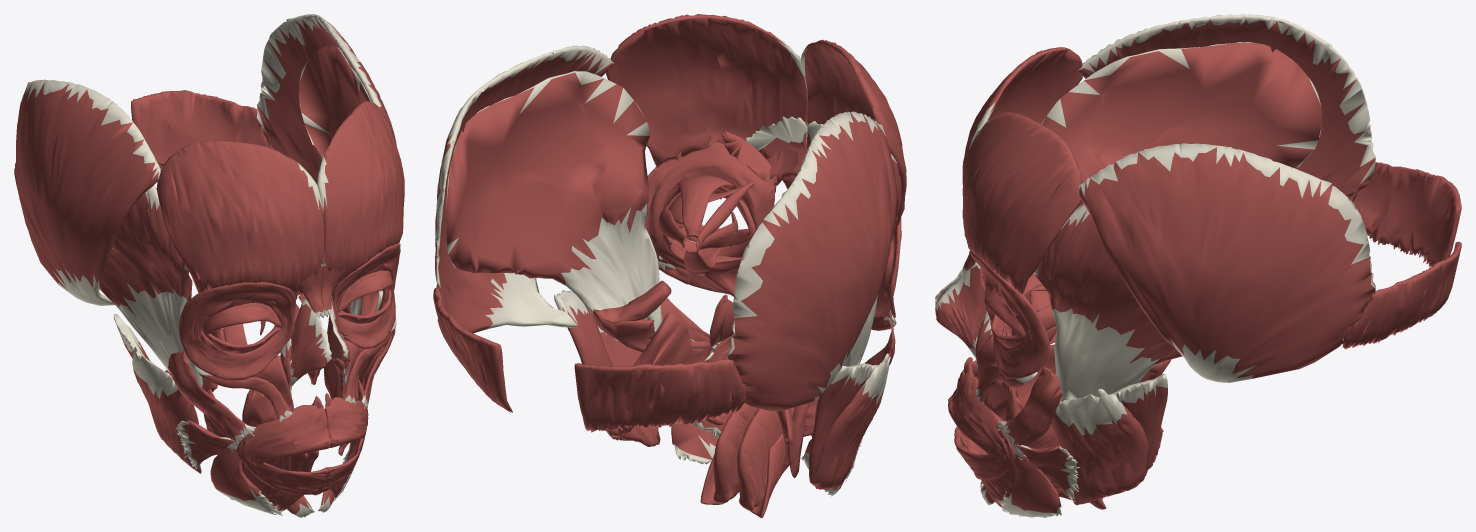
File: muscular-head-balanced.glb
The picture shows the model from 3 angles, left to right: view 1: azimuth 30°, elevation 25°; view 2: azimuth 150°, elevation 25°; view 3: azimuth 270°, elevation 25°; orthographic projection. The views are drawn at different scales.
Parts seen in each view (by area): view 1: za.temporoparietalis-muscle-r, za.frontalis-muscle-r, za.frontalis-muscle-l, za.temporalis-muscle-r, za.temporoparietalis-muscle-l, za.orbital-part-of-orbicularis-oculi-r, za.occipitalis-muscle-l, za.orbicularis-oris-muscle-r, za.temporalis-muscle-l, za.superficial-part-of-masseter-r, za.orbital-part-of-orbicularis-oculi-l, za.orbicularis-oris-muscle-l (+17 smaller); view 2: za.temporalis-muscle-l, za.temporoparietalis-muscle-r, za.frontalis-muscle-l, za.temporoparietalis-muscle-l, za.occipitalis-muscle-r, za.orbital-part-of-orbicularis-oculi-l, za.frontalis-muscle-r, za.superficial-part-of-masseter-r, za.occipitalis-muscle-l, za.genioglossus-muscle-r, za.deep-part-of-masseter-l, za.deep-part-of-masseter-r (+22 smaller); view 3: za.temporoparietalis-muscle-l, za.temporalis-muscle-r, za.frontalis-muscle-l, za.temporalis-muscle-l, za.temporoparietalis-muscle-r, za.occipitalis-muscle-r, za.superficial-part-of-masseter-l, za.occipitalis-muscle-l, za.frontalis-muscle-r, za.orbicularis-oris-muscle-l, za.orbital-part-of-orbicularis-oculi-l, za.nasalis-muscle-l (+9 smaller).
Boxes of the visible parts, x1,y1,x2,y2 form: za.temporoparietalis-muscle-r: (15,79,160,305); za.frontalis-muscle-r: (156,140,324,295); za.frontalis-muscle-l: (317,101,404,286); za.temporalis-muscle-r: (99,185,202,387); za.temporoparietalis-muscle-l: (257,14,396,183); za.orbital-part-of-orbicularis-oculi-r: (178,282,295,380); za.occipitalis-muscle-l: (131,90,267,168); za.orbicularis-oris-muscle-r: (236,405,331,495); za.temporalis-muscle-l: (299,45,371,315); za.superficial-part-of-masseter-r: (132,346,201,473); za.orbital-part-of-orbicularis-oculi-l: (331,243,400,348); za.orbicularis-oris-muscle-l: (317,397,368,494); za.temporalis-muscle-l: (446,71,661,340); za.temporoparietalis-muscle-r: (727,111,897,410); za.frontalis-muscle-l: (606,14,807,186); za.temporoparietalis-muscle-l: (435,45,614,333); za.occipitalis-muscle-r: (574,359,745,432); za.orbital-part-of-orbicularis-oculi-l: (644,142,774,274); za.frontalis-muscle-r: (800,39,906,226); za.superficial-part-of-masseter-r: (811,353,890,489); za.occipitalis-muscle-l: (433,287,512,412); za.genioglossus-muscle-r: (737,408,791,511); za.deep-part-of-masseter-l: (554,290,658,446); za.deep-part-of-masseter-r: (808,363,877,489); za.temporoparietalis-muscle-l: (1078,143,1375,382); za.temporalis-muscle-r: (1041,42,1321,205); za.frontalis-muscle-l: (962,112,1082,293); za.temporalis-muscle-l: (1033,203,1182,401); za.temporoparietalis-muscle-r: (1078,14,1375,202); za.occipitalis-muscle-r: (1353,162,1461,266); za.superficial-part-of-masseter-l: (1051,389,1148,505); za.occipitalis-muscle-l: (1342,241,1461,349); za.frontalis-muscle-r: (962,47,1082,195); za.orbicularis-oris-muscle-l: (948,372,1015,480); za.orbital-part-of-orbicularis-oculi-l: (969,251,1049,378); za.nasalis-muscle-l: (935,262,986,359).
Size of the model in its own units: 0.1611 by 0.1797 by 0.2048.
